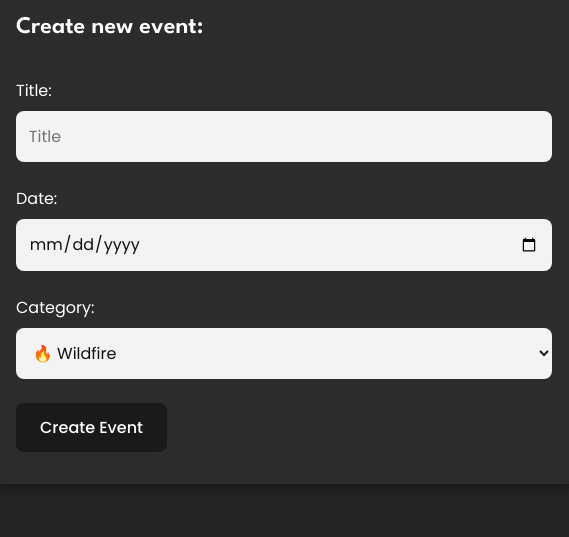
Test: CustomEventForm › shows validation error when required fields are empty
Simuliert Klick auf den "Create Event"-Button, ohne Felder auszufüllen
Click the button "Create Event" at [92, 427], box [16,403,167,452]
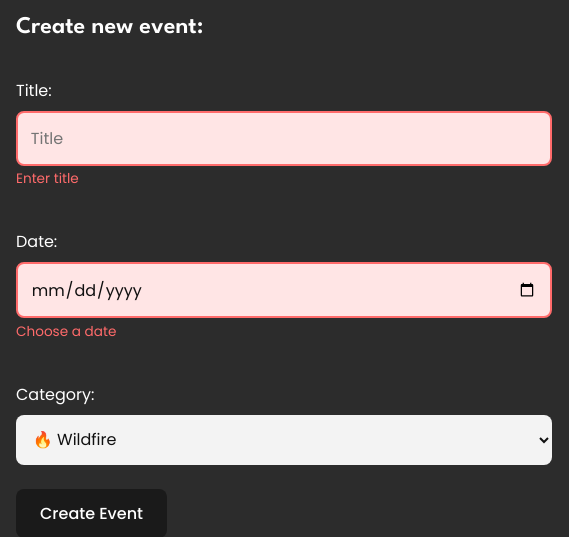
expect the text "Enter title" is shown: met, box [16,169,79,189]
expect the text "Choose a date" is shown: met, box [16,322,116,342]
